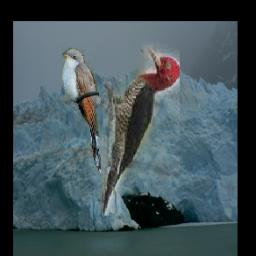Cuckoo: (62, 48, 101, 176)
Woodpecker: (103, 43, 181, 217)
